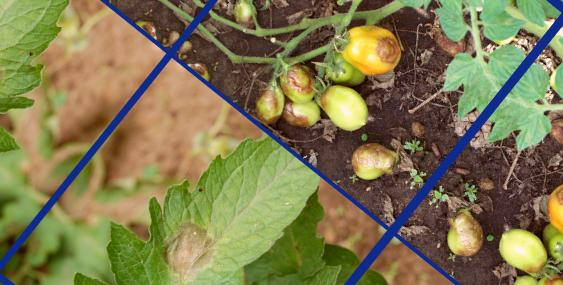Tomato leaf late blight: (53, 96, 347, 285)
